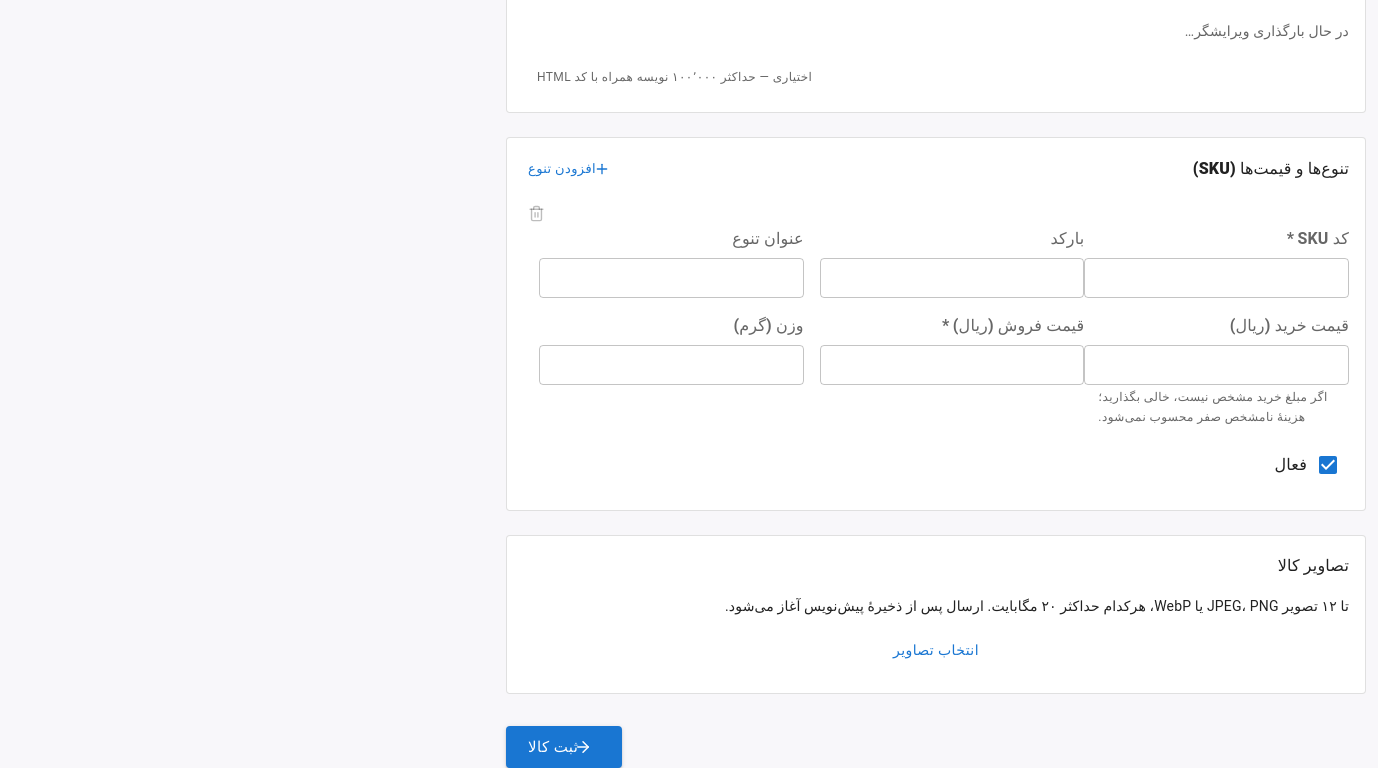
Test: ProductCreateForm › blocks submission with validation errors
(page scrolled)
Click the button "ثبت کالا": (564, 747) [506,726,622,767]
(page scrolled)
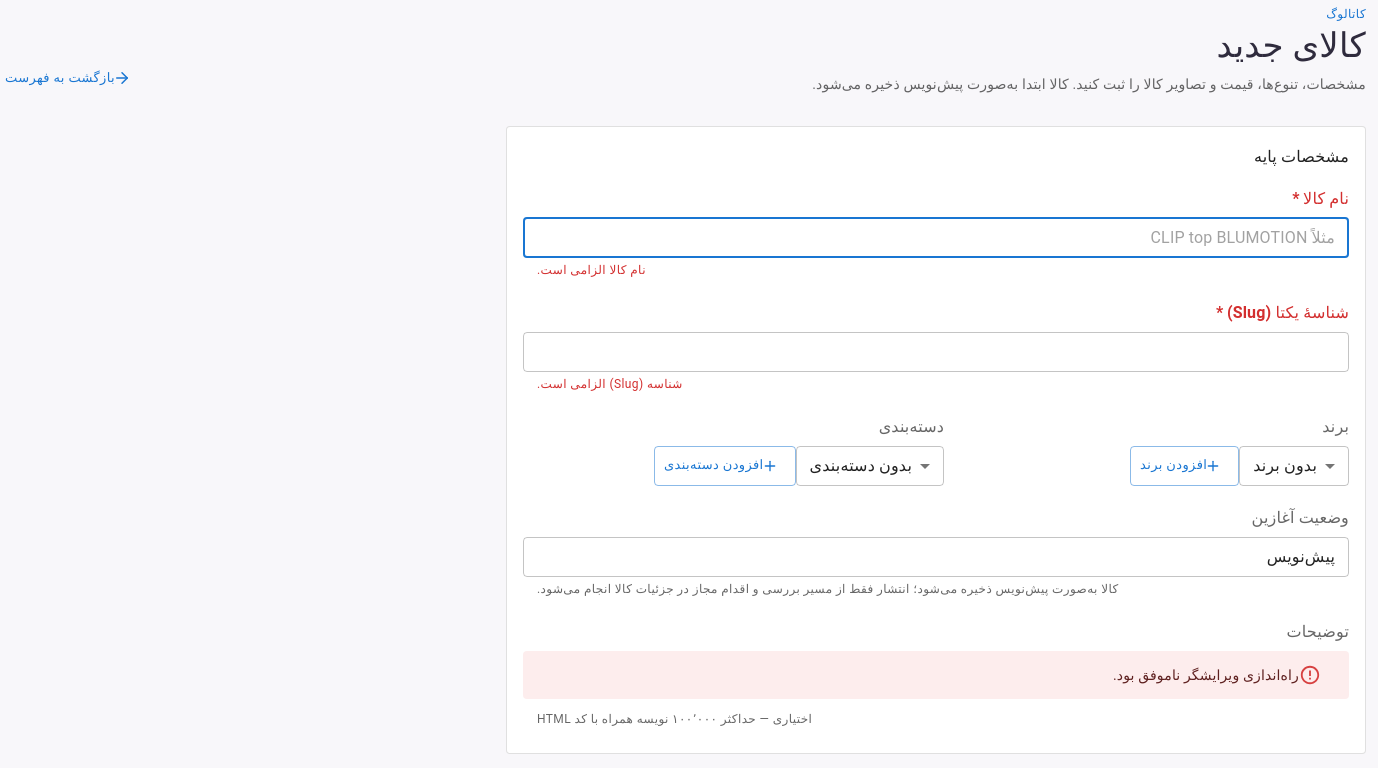
Result: the text "نام کالا الزامی است." is shown at [537,263,646,277]
Result: the text "شناسه (Slug) الزامی است." is shown at [537,377,683,391]
